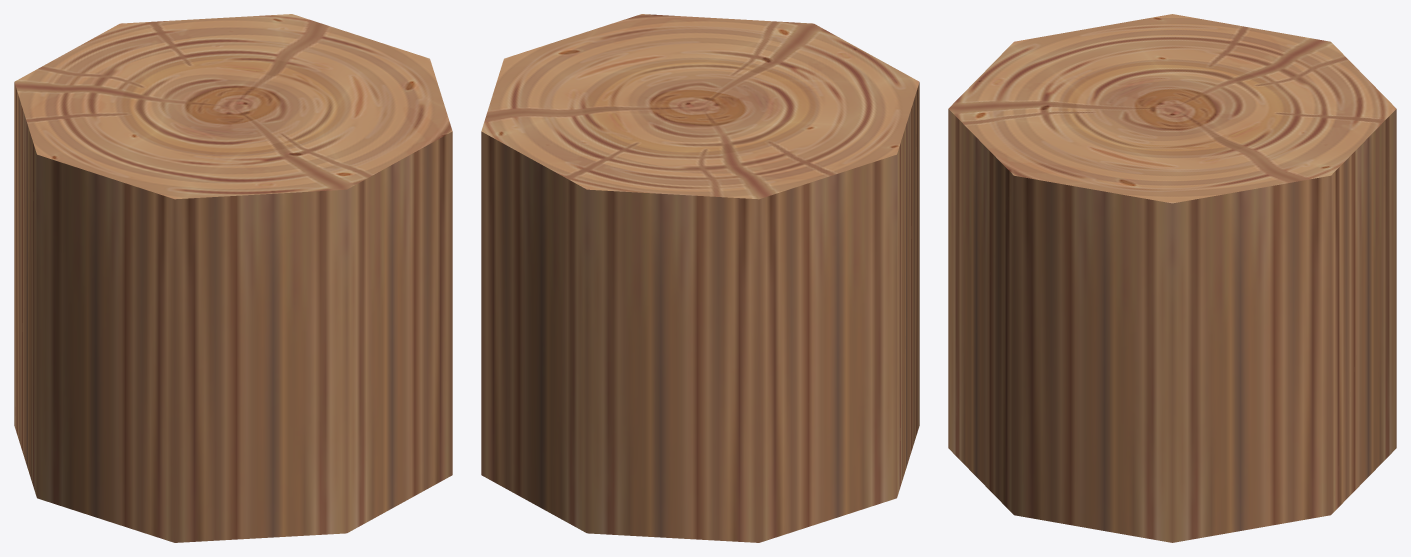
Rendered from hvs_tree_insidelog.fbx.
The picture shows the model from 3 angles, left to right: view 1: azimuth 30°, elevation 25°; view 2: azimuth 150°, elevation 25°; view 3: azimuth 270°, elevation 25°; orthographic projection.
Visible parts, largest first — view 1: p_mesh_leafy_log2; view 2: p_mesh_leafy_log2; view 3: p_mesh_leafy_log2.
Boxes of the visible parts, <box> form: p_mesh_leafy_log2: <box>14,14,452,542</box>; p_mesh_leafy_log2: <box>481,14,919,542</box>; p_mesh_leafy_log2: <box>948,14,1396,542</box>.
Bounding box in the file's own units: 4.79 × 4 × 4.79.
1 material, 1 textured.
